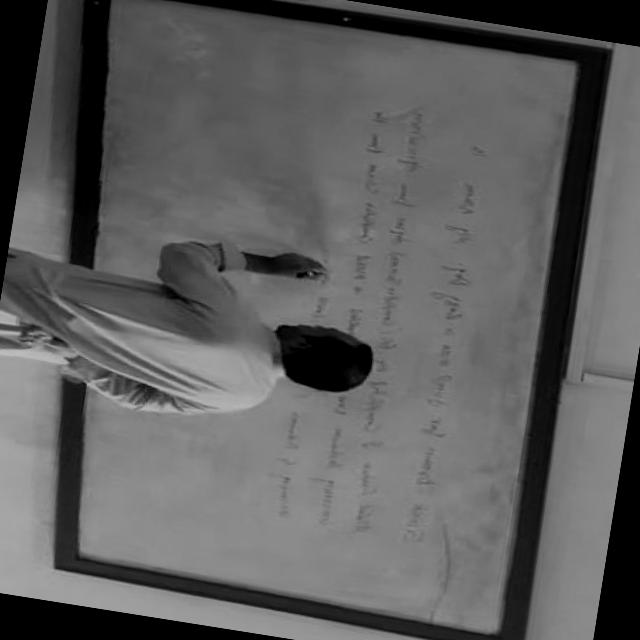Instructor: (17, 246, 399, 443)
White-board: (65, 0, 590, 640)
